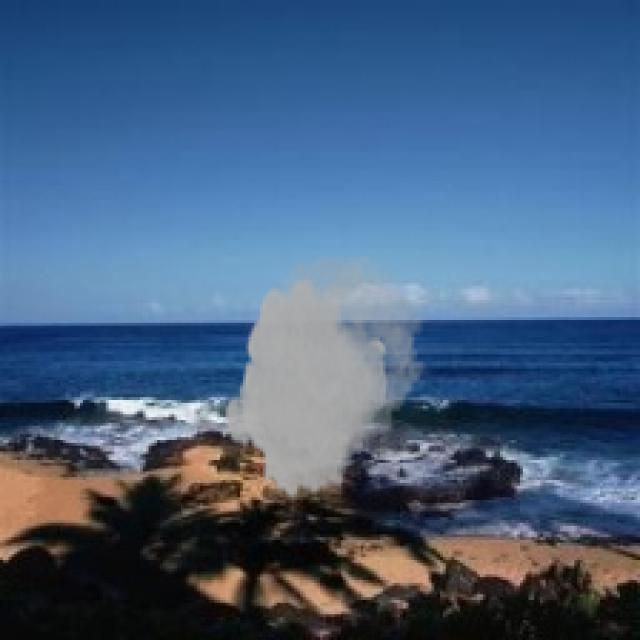smoke: (223, 257, 431, 503)
